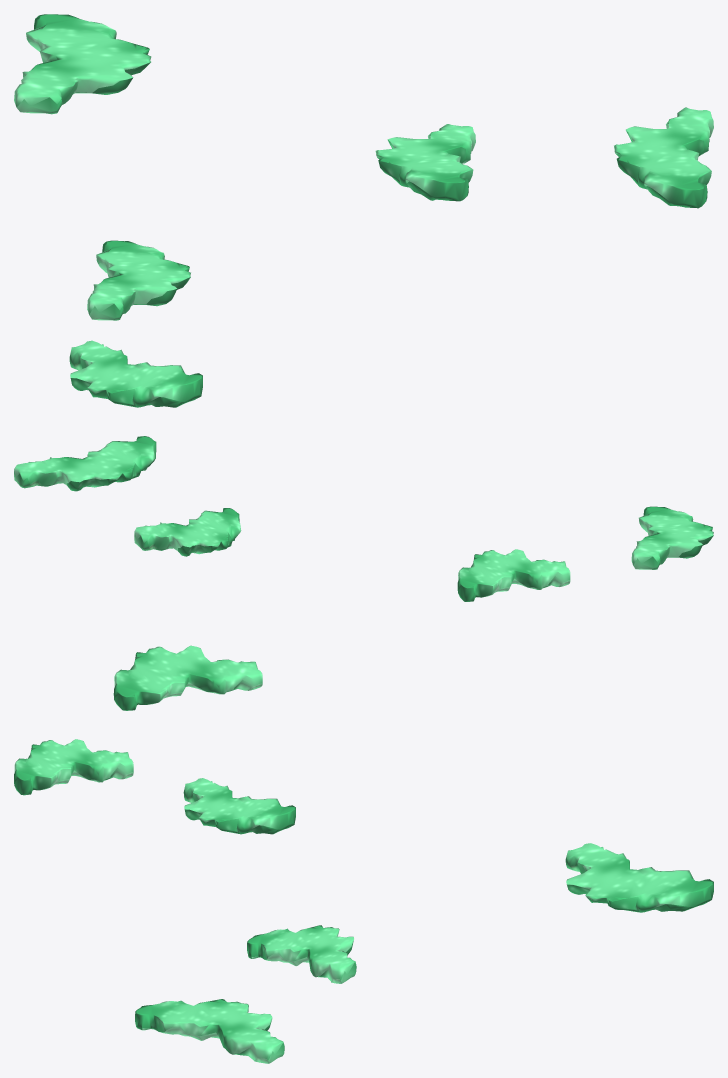
The model's file is LV7Acid.fbx.
3 renders of one model, top to bottom at view 1: azimuth 30°, elevation 25°; view 2: azimuth 150°, elevation 25°; view 3: azimuth 270°, elevation 25°, orthographic. The views are drawn at different scales.
Parts seen in each view (by area): view 1: RockWalkway_30; view 2: RockWalkway_30; view 3: RockWalkway_30.
Boxes of the visible parts, box(x1,y1,x2,y2) form: RockWalkway_30: box(14, 14, 713, 407); RockWalkway_30: box(14, 436, 713, 710); RockWalkway_30: box(14, 739, 713, 1063).
Bounding box in the file's own units: 309 × 8.83 × 295.
